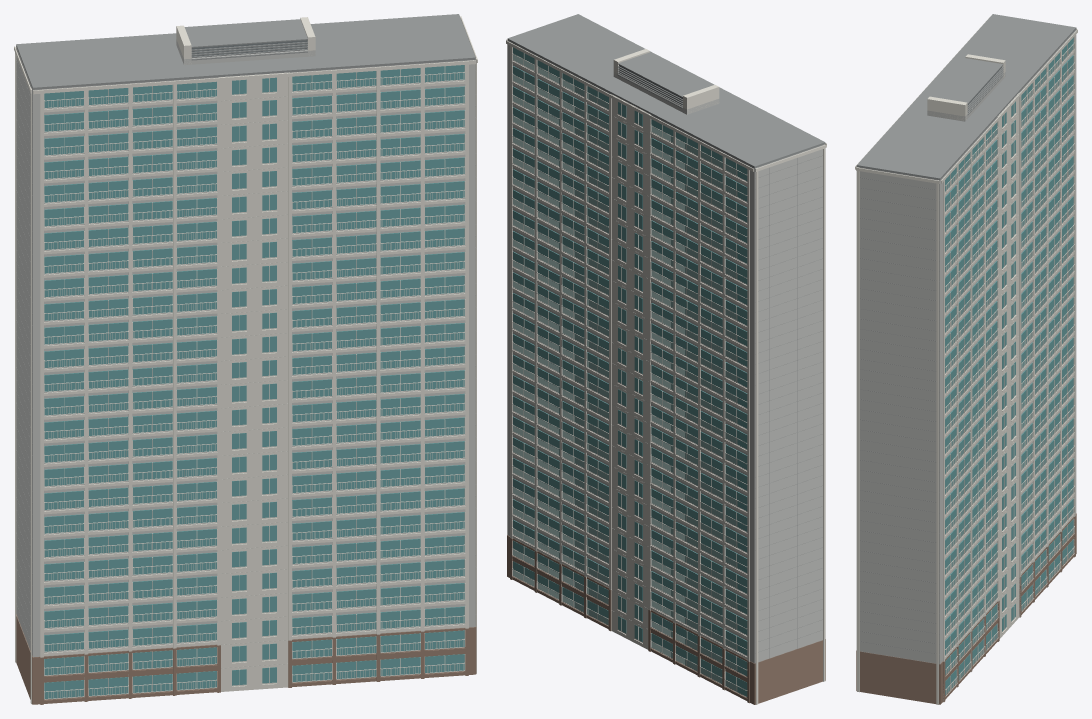
File: bespoke-jamsil-els-128.glb
3 renders of one model, left to right at view 1: azimuth 30°, elevation 25°; view 2: azimuth 150°, elevation 25°; view 3: azimuth 270°, elevation 25°, orthographic. The views are drawn at different scales.
Visible parts, largest first — view 1: Els128_editable_Els128_turquoise_balcony_glazing, Els128_editable_Els128_light_grey_solid_wall, Els128_white_exact_chunk_3, Els128_white_exact_chunk_4, Els128_white_exact_chunk_6, Els128_white_exact_chunk_5, Els128_editable_Els128_modest_grey_flat_roof_caps, Els128_editable_Els128_muted_ground_wall, Els128_editable_Els128_narrow_charcoal_service_strips; view 2: Els128_editable_Els128_turquoise_balcony_glazing, Els128_editable_Els128_light_grey_solid_wall, Els128_white_exact_chunk_0, Els128_white_exact_chunk_1, Els128_editable_Els128_modest_grey_flat_roof_caps, Els128_white_exact_chunk_2, Els128_white_exact_chunk_3, Els128_editable_Els128_muted_ground_wall, Els128_white_exact_chunk_6; view 3: Els128_editable_Els128_light_grey_solid_wall, Els128_editable_Els128_turquoise_balcony_glazing, Els128_white_exact_chunk_0, Els128_editable_Els128_modest_grey_flat_roof_caps, Els128_white_exact_chunk_1, Els128_white_exact_chunk_2, Els128_white_exact_chunk_3, Els128_editable_Els128_muted_ground_wall, Els128_white_exact_chunk_6.
Boxes of the visible parts, left/top/right/bottom form: Els128_editable_Els128_turquoise_balcony_glazing: left=44, top=65, right=464, bottom=698; Els128_editable_Els128_light_grey_solid_wall: left=16, top=39, right=475, bottom=668; Els128_white_exact_chunk_3: left=14, top=45, right=289, bottom=703; Els128_white_exact_chunk_4: left=40, top=77, right=332, bottom=701; Els128_white_exact_chunk_6: left=33, top=16, right=477, bottom=687; Els128_white_exact_chunk_5: left=292, top=68, right=420, bottom=679; Els128_editable_Els128_modest_grey_flat_roof_caps: left=16, top=14, right=475, bottom=656; Els128_editable_Els128_muted_ground_wall: left=16, top=614, right=476, bottom=704; Els128_editable_Els128_narrow_charcoal_service_strips: left=191, top=40, right=307, bottom=56; Els128_editable_Els128_turquoise_balcony_glazing: left=513, top=47, right=747, bottom=696; Els128_editable_Els128_light_grey_solid_wall: left=507, top=40, right=824, bottom=663; Els128_white_exact_chunk_0: left=512, top=47, right=650, bottom=649; Els128_white_exact_chunk_1: left=510, top=42, right=673, bottom=658; Els128_editable_Els128_modest_grey_flat_roof_caps: left=507, top=14, right=825, bottom=662; Els128_white_exact_chunk_2: left=650, top=119, right=747, bottom=697; Els128_white_exact_chunk_3: left=506, top=40, right=826, bottom=704; Els128_editable_Els128_muted_ground_wall: left=507, top=535, right=825, bottom=704; Els128_white_exact_chunk_6: left=506, top=39, right=826, bottom=534; Els128_editable_Els128_light_grey_solid_wall: left=856, top=29, right=1076, bottom=664; Els128_editable_Els128_turquoise_balcony_glazing: left=945, top=37, right=1073, bottom=694; Els128_white_exact_chunk_0: left=945, top=92, right=1019, bottom=696; Els128_editable_Els128_modest_grey_flat_roof_caps: left=856, top=14, right=1076, bottom=663; Els128_white_exact_chunk_1: left=943, top=100, right=1034, bottom=701; Els128_white_exact_chunk_2: left=1021, top=52, right=1074, bottom=596; Els128_white_exact_chunk_3: left=941, top=28, right=1077, bottom=617; Els128_editable_Els128_muted_ground_wall: left=856, top=513, right=1076, bottom=704; Els128_white_exact_chunk_6: left=855, top=16, right=1005, bottom=704.
Size of the model in its own units: 48.41 by 73.8 by 27.48.
